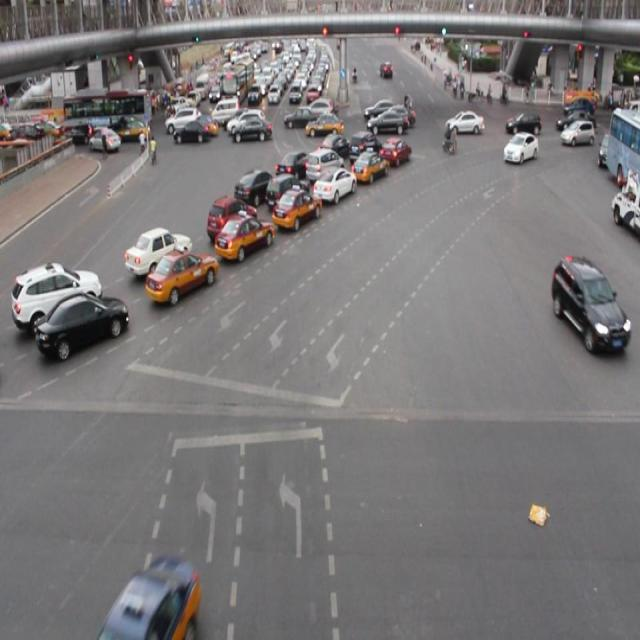BigCar: (64, 88, 154, 136)
car: (543, 225, 632, 364), (99, 532, 203, 640), (35, 289, 124, 364), (150, 242, 224, 326), (7, 260, 100, 312), (268, 172, 318, 242), (122, 223, 185, 265), (173, 108, 227, 156), (205, 178, 250, 233), (439, 104, 492, 150), (366, 100, 421, 139), (350, 142, 392, 192), (233, 106, 273, 154), (316, 154, 352, 207), (508, 128, 538, 174), (305, 111, 342, 142), (563, 118, 592, 156)
